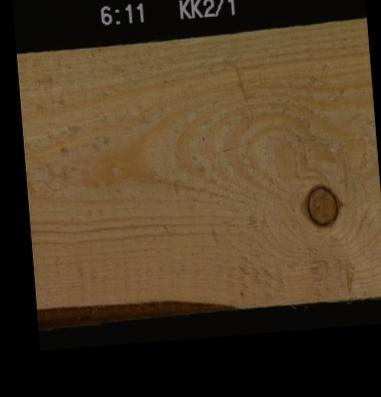dry_knot: (303, 182, 339, 226)
split: (213, 141, 255, 150)
wave: (36, 299, 243, 319)
